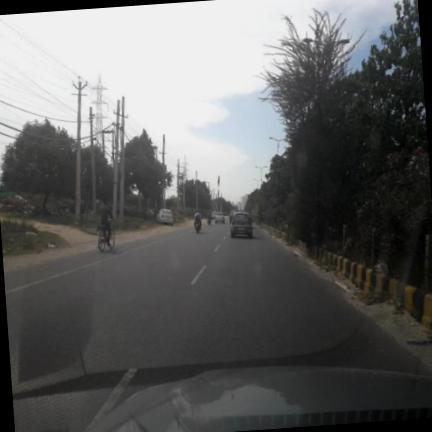Road: (4, 224, 426, 431)
